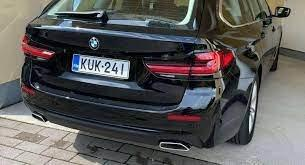license-plates: (72, 54, 130, 79)
